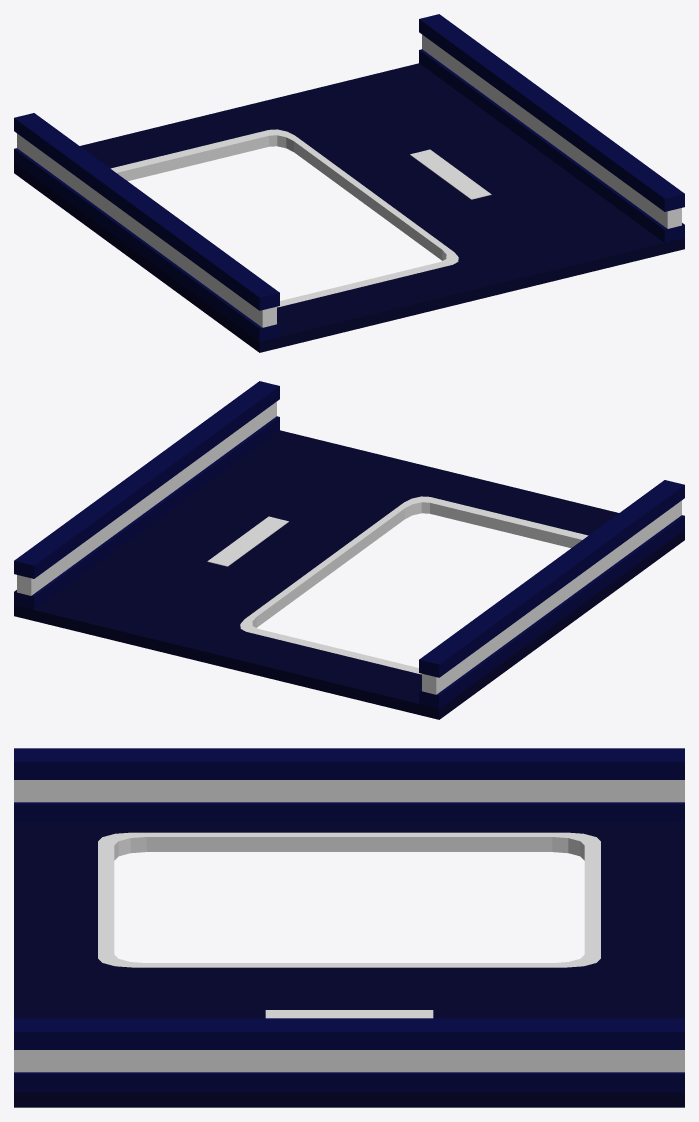
File: road_with_hole.fbx
3 renders of one model, top to bottom at view 1: azimuth 30°, elevation 25°; view 2: azimuth 150°, elevation 25°; view 3: azimuth 270°, elevation 25°, orthographic. The views are drawn at different scales.
Parts seen in each view (by area): view 1: Плоскость; view 2: Плоскость; view 3: Плоскость.
Part boxes in pixels (x1,y1,x2,y2): Плоскость: (14,14,684,352); Плоскость: (14,381,684,719); Плоскость: (14,748,684,1107).
Bounding box in the file's own units: 800 × 99.46 × 800.
